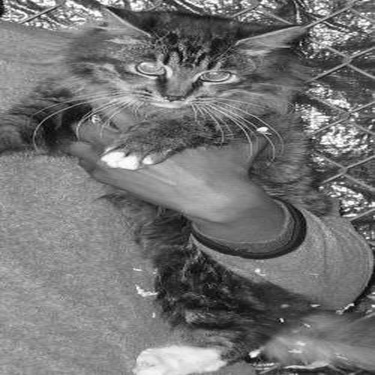cat: (4, 3, 341, 346)
